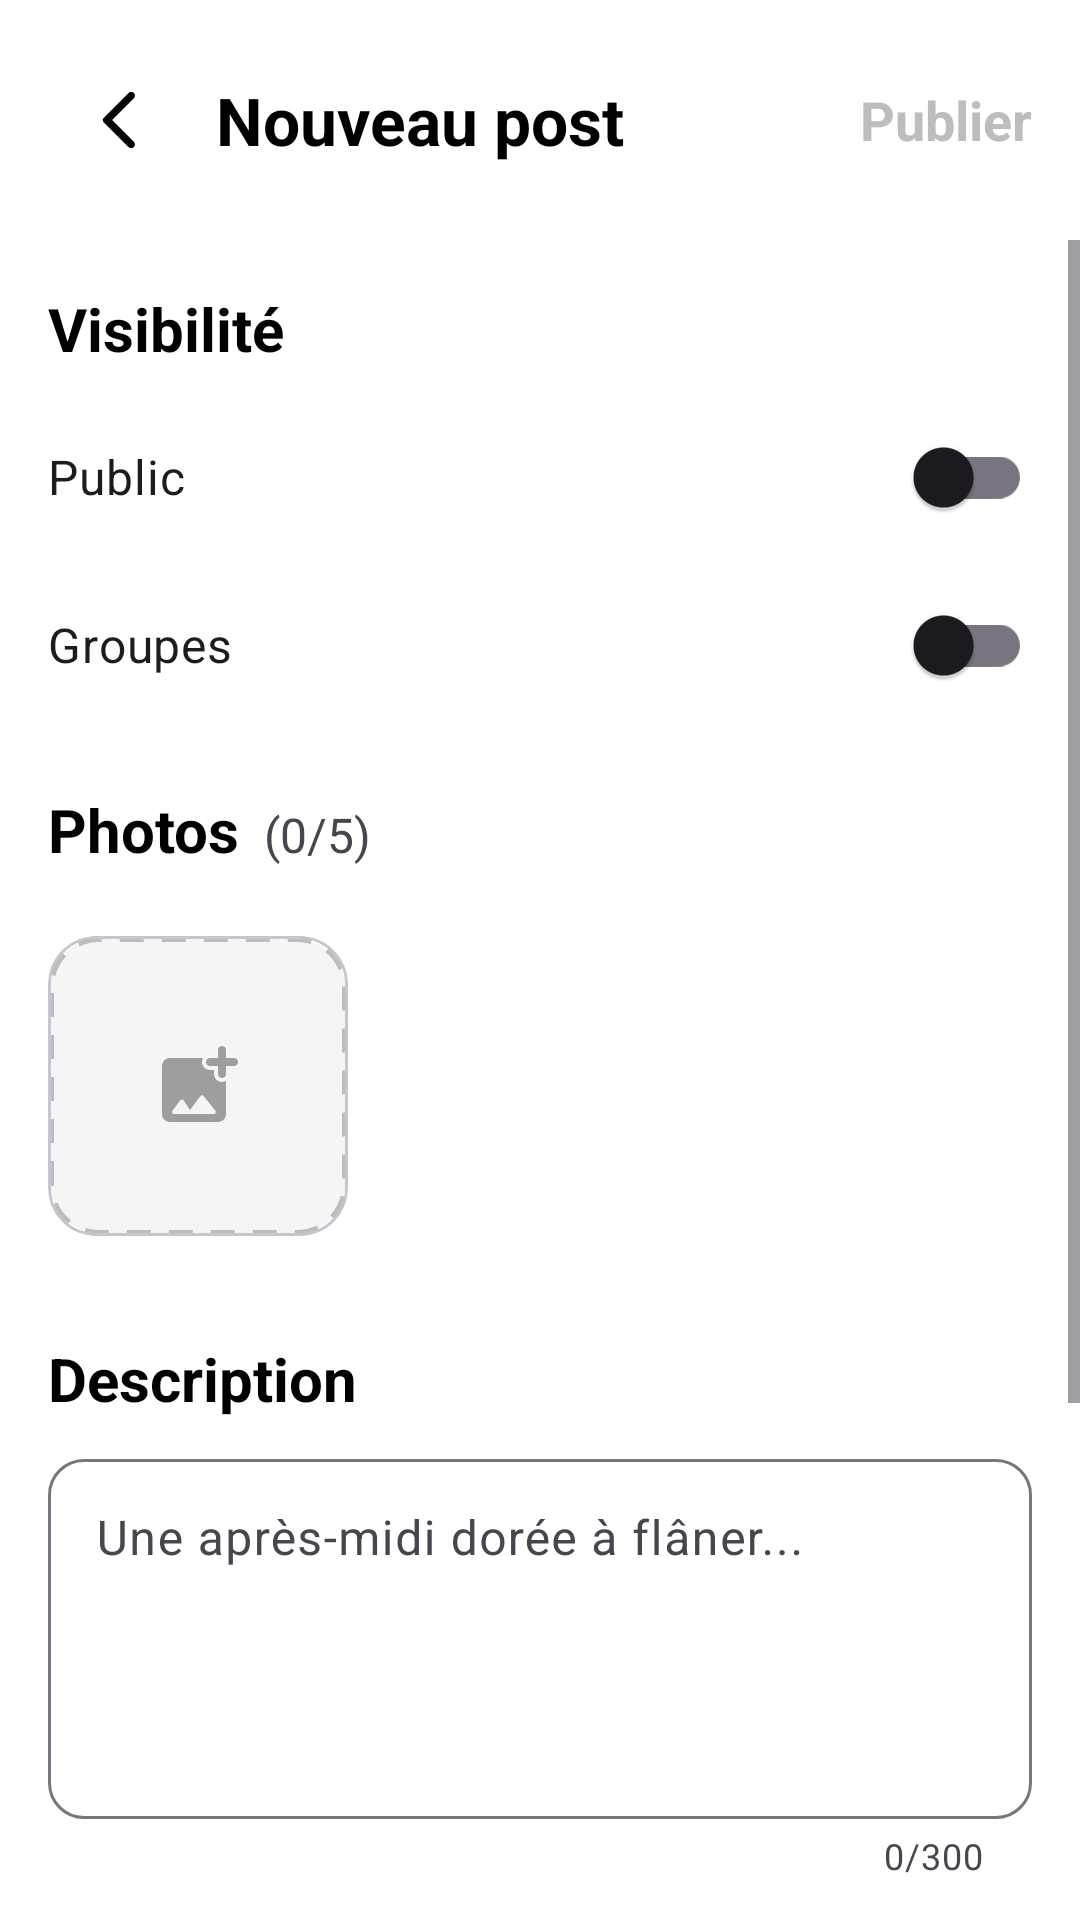

Screen size 1080×1920. Icon name, then its box in pixels as region(x1, y1, x2, y2):
add photo alternate: region(162, 1046, 238, 1122)
chevron left: region(102, 92, 135, 149)
